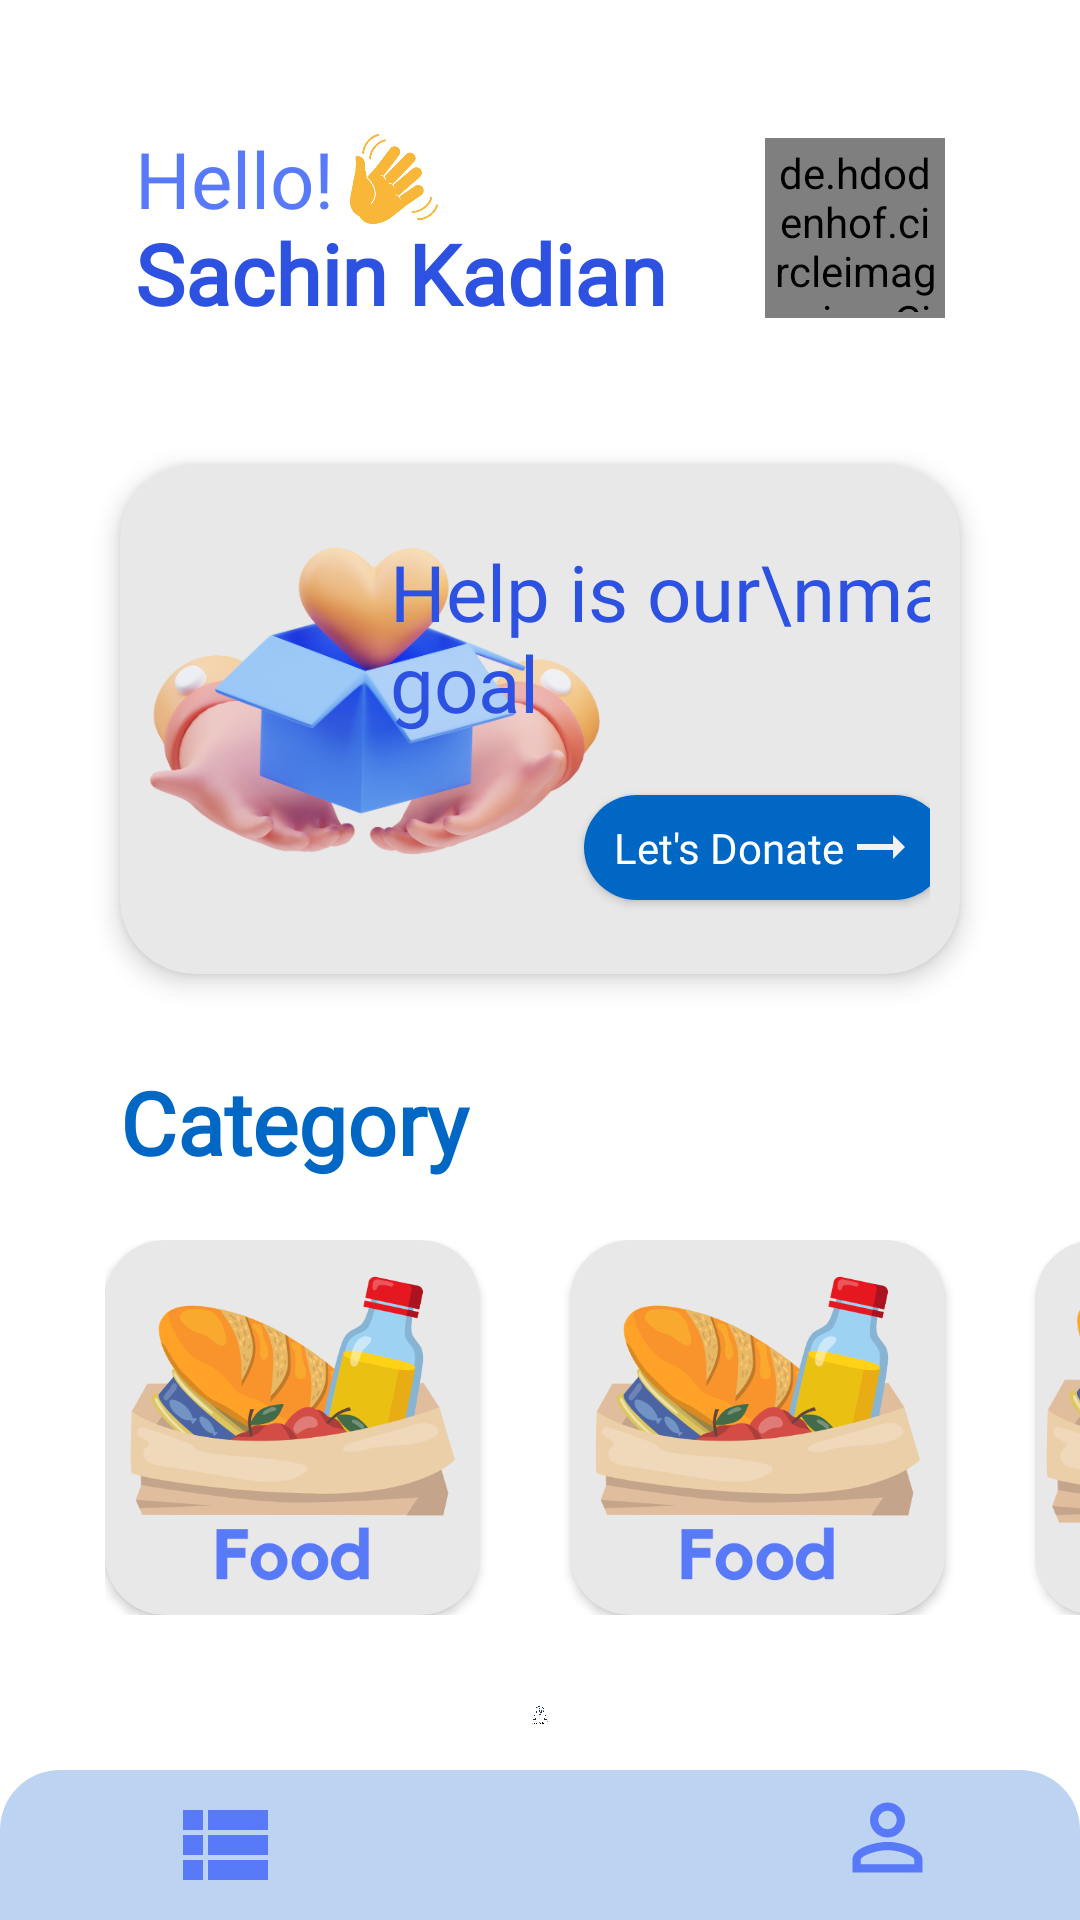

Where icons sit on this 1080px×1920px app screen, as [x1=x1, y1=y1, x2=x2, y2=y2]:
hiii: [x1=350, y1=134, x2=438, y2=224]
